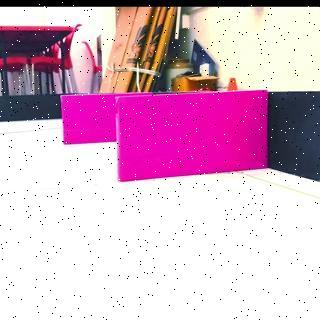xparking: (118, 96, 266, 172), (62, 93, 115, 141)
